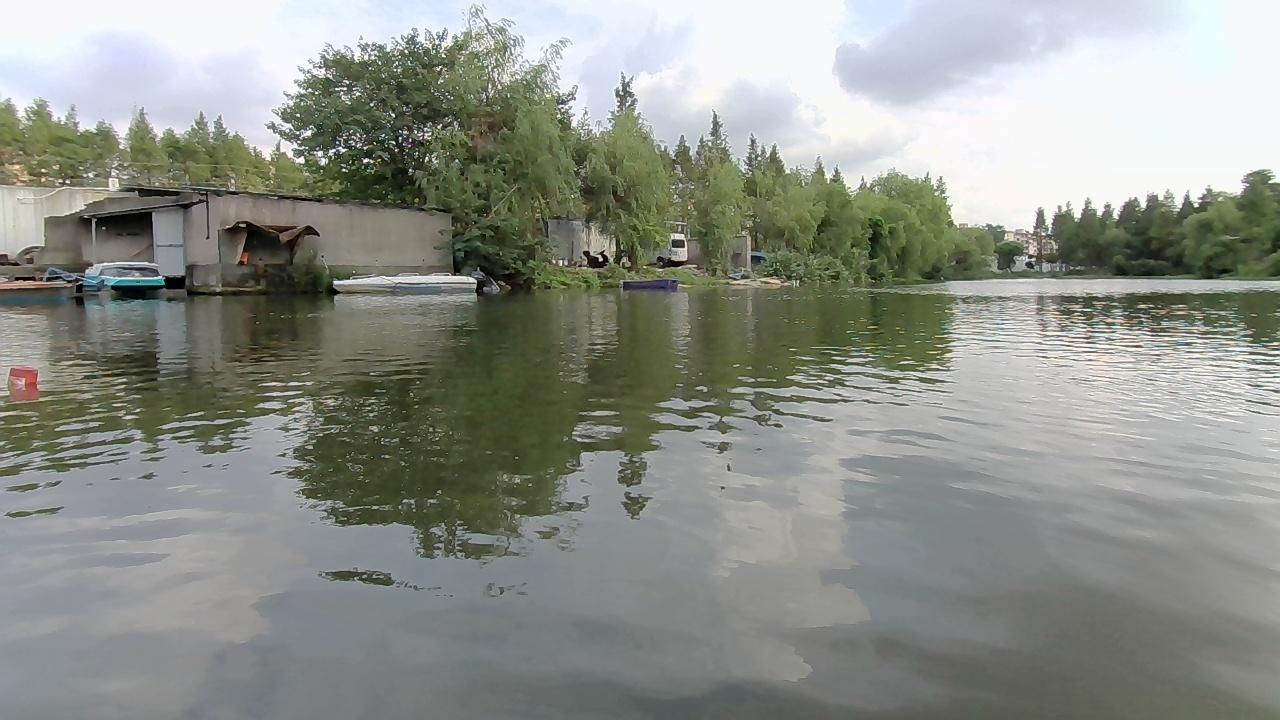bottle: (6, 365, 42, 392)
